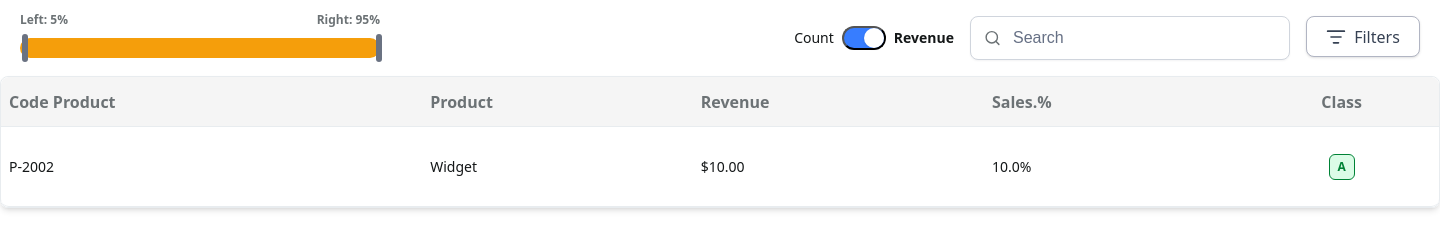
Test: UI Component: ABCAnalysisTable › rendering › should toggle metric and request UNITS on switch click
Expected: the column heading "Revenue" is shown, [693, 77, 984, 127]
Expected: the text "$10.00" is shown, [693, 127, 984, 207]
What coordinates should you click on to do the following:
click the switch named "Toggle between quantity and revenue"
I would click on:
 (864, 38)
Its box is [842, 26, 886, 50].
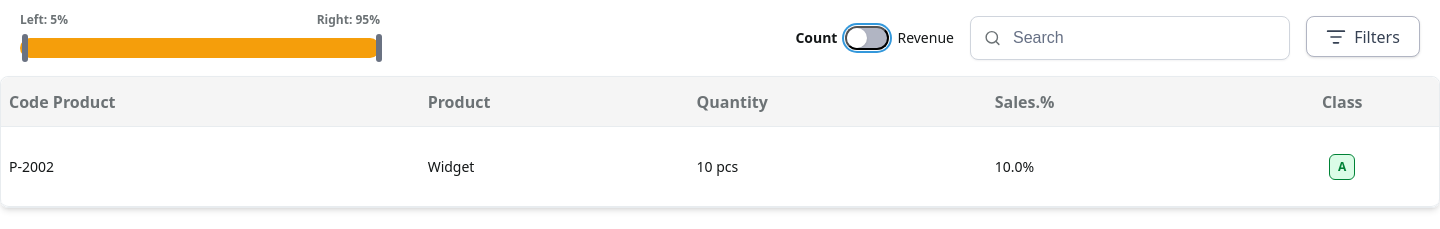
Expected: the column heading "Quantity" is shown, [688, 77, 987, 127]
Expected: the text "10 pcs" is shown, [688, 127, 987, 207]
